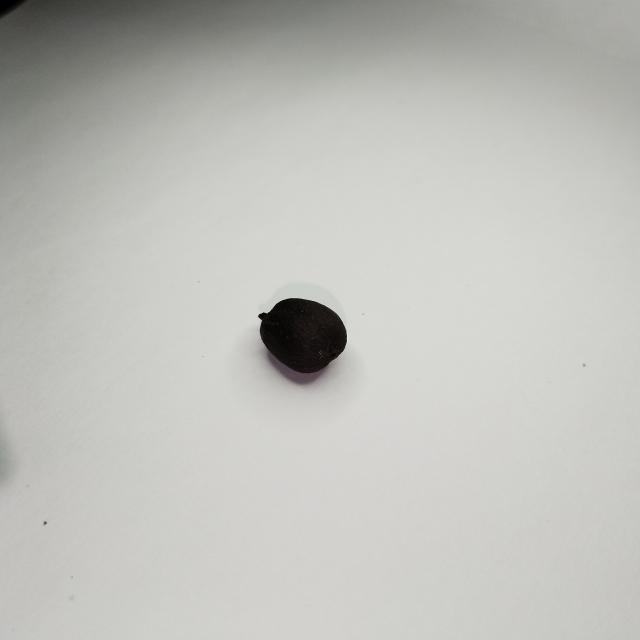Danado: (261, 299, 347, 374)
